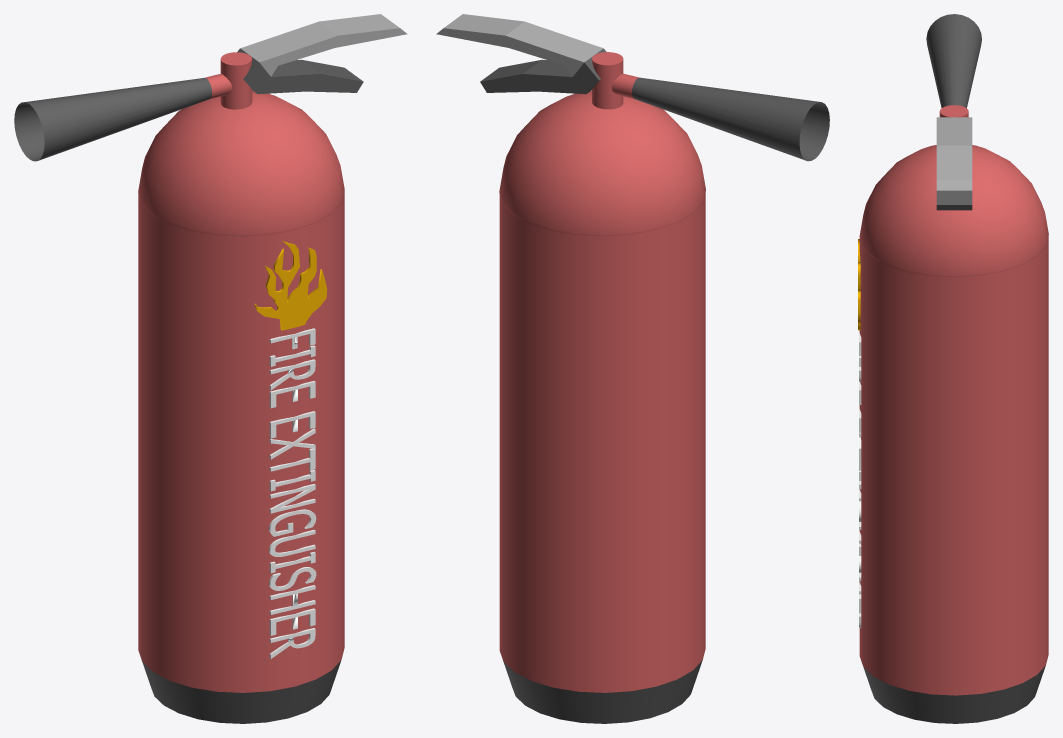
File: fire_extinguisher0713.gltf
3 views of the same model, side by side, from view 1: azimuth 30°, elevation 25°; view 2: azimuth 150°, elevation 25°; view 3: azimuth 270°, elevation 25° (orthographic). The views are drawn at different scales.
Visible parts, largest first — view 1: 灭火器07; view 2: 灭火器07; view 3: 灭火器07.
Boxes of the visible parts, <box> form: 灭火器07: <box>14,14,407,723</box>; 灭火器07: <box>436,14,829,723</box>; 灭火器07: <box>858,14,1048,723</box>.
Size of the model in its own units: 0.3876 by 0.6385 by 0.1896.
